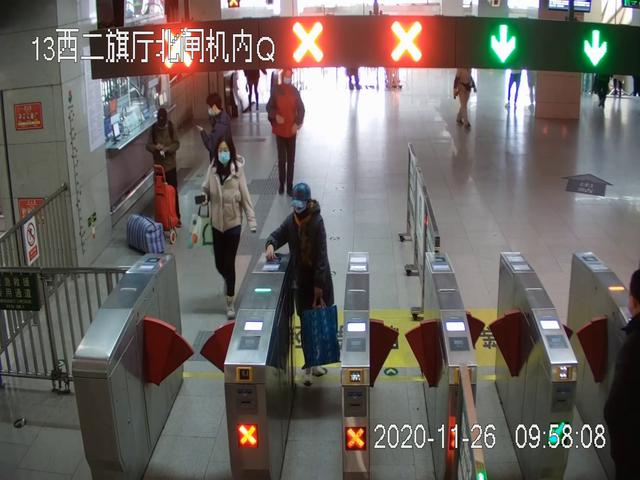person: (266, 184, 339, 385), (195, 137, 256, 317), (266, 68, 307, 194), (197, 94, 234, 213), (146, 106, 181, 225), (454, 67, 477, 131)
